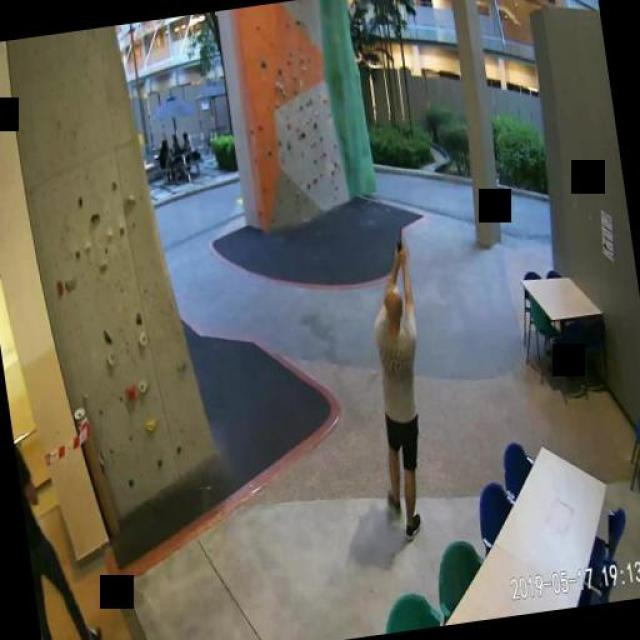gun: (392, 222, 406, 256)
